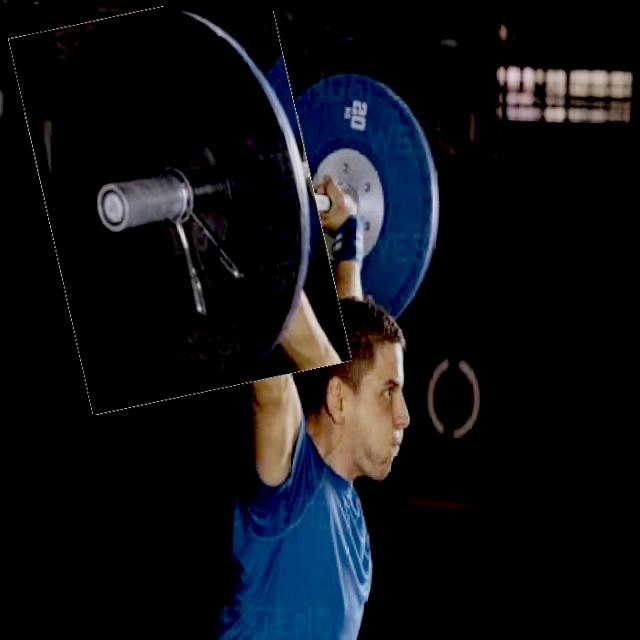barbell: (24, 2, 339, 409)
